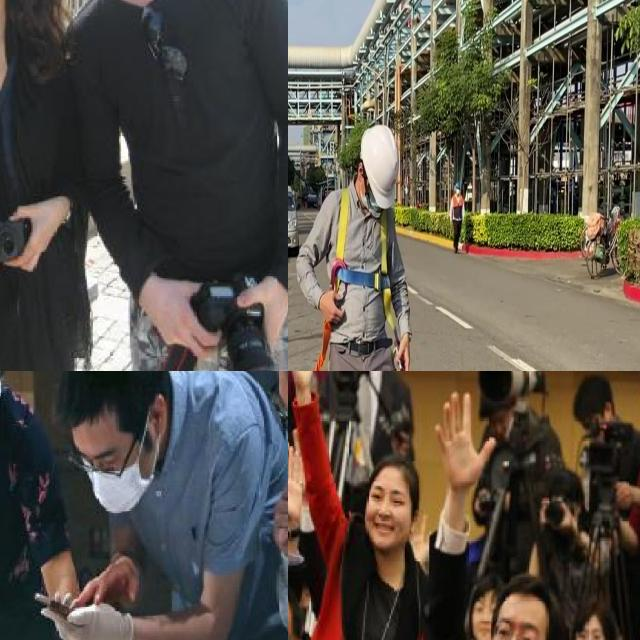Harness: (331, 189, 394, 328)
face_mask: (67, 402, 164, 515)
face_nomask: (359, 472, 414, 551), (574, 630, 606, 640)
glasses: (64, 454, 126, 483), (264, 399, 288, 456), (486, 619, 546, 640)
hand_glove: (41, 590, 125, 640)
hand_noglove: (144, 271, 222, 357), (433, 391, 497, 494), (11, 191, 74, 279), (232, 270, 288, 348), (72, 555, 139, 607), (268, 482, 288, 557), (288, 444, 306, 520), (614, 478, 633, 511), (554, 500, 571, 529), (539, 498, 548, 531)
head_nohelmet: (45, 371, 139, 434), (503, 570, 559, 612), (372, 454, 418, 481), (574, 600, 611, 626), (288, 575, 303, 606)
person: (57, 0, 288, 371), (35, 371, 278, 640), (0, 0, 93, 371), (0, 371, 75, 640), (328, 460, 422, 640), (334, 371, 411, 435)
